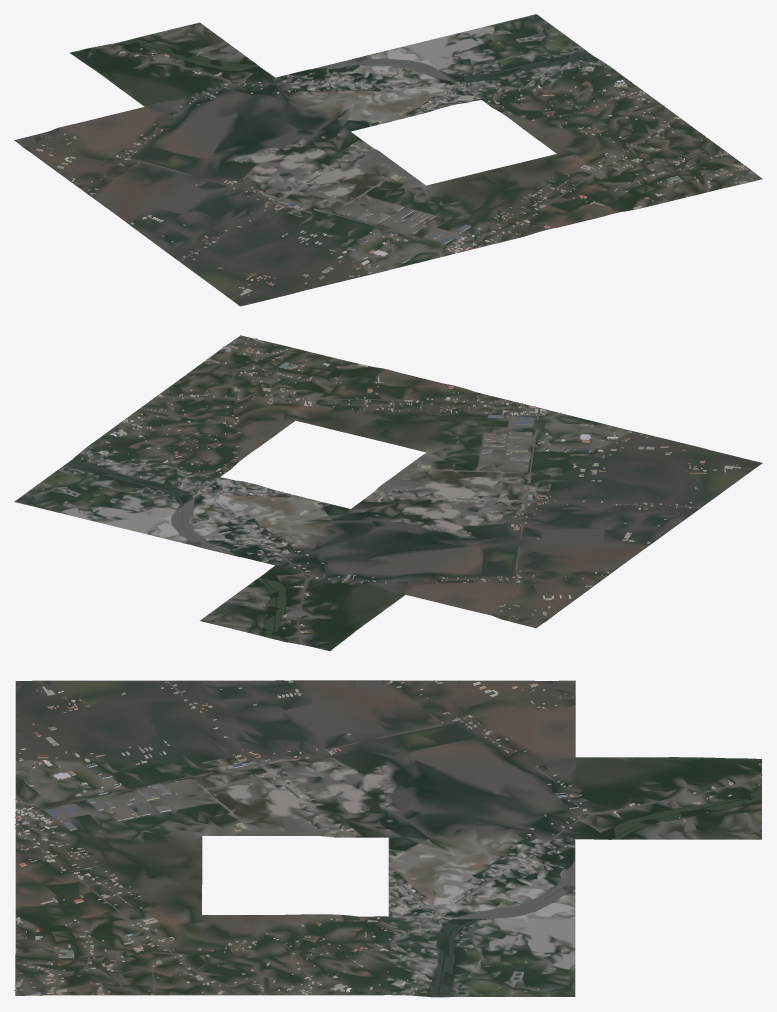
The picture shows the model from 3 angles, top to bottom: view 1: azimuth 30°, elevation 25°; view 2: azimuth 150°, elevation 25°; view 3: azimuth 270°, elevation 25°; orthographic projection. The views are drawn at different scales.
Visible parts, largest first — view 1: ground, buildings, water, roads; view 2: ground, buildings, water, roads; view 3: ground, buildings, water, roads.
Boxes of the visible parts, <box> form: ground: <box>14,14,762,306</box>; buildings: <box>35,27,755,295</box>; water: <box>23,14,594,194</box>; roads: <box>40,46,746,303</box>; ground: <box>14,335,762,651</box>; buildings: <box>41,337,740,648</box>; water: <box>15,459,549,641</box>; roads: <box>119,346,752,645</box>; ground: <box>15,680,761,997</box>; buildings: <box>14,680,760,995</box>; water: <box>251,681,761,996</box>; roads: <box>15,680,762,995</box>.
Bounding box in the file's own units: 5603 × 42.55 × 5622.
